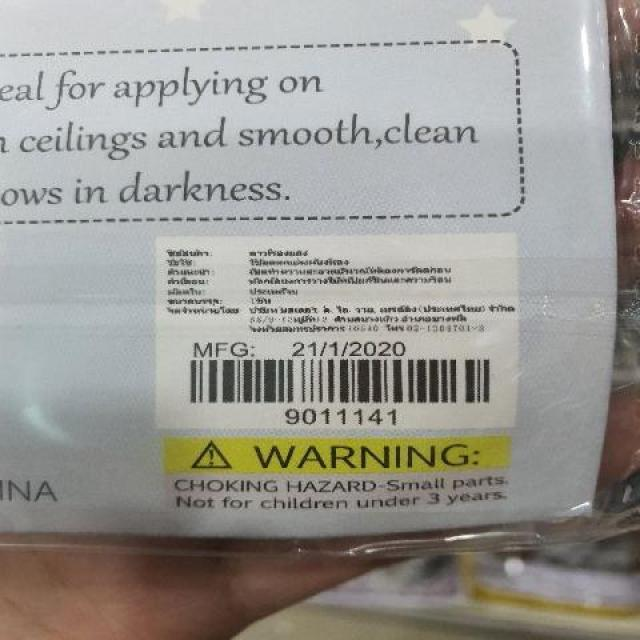Barcode: (168, 352, 504, 425)
